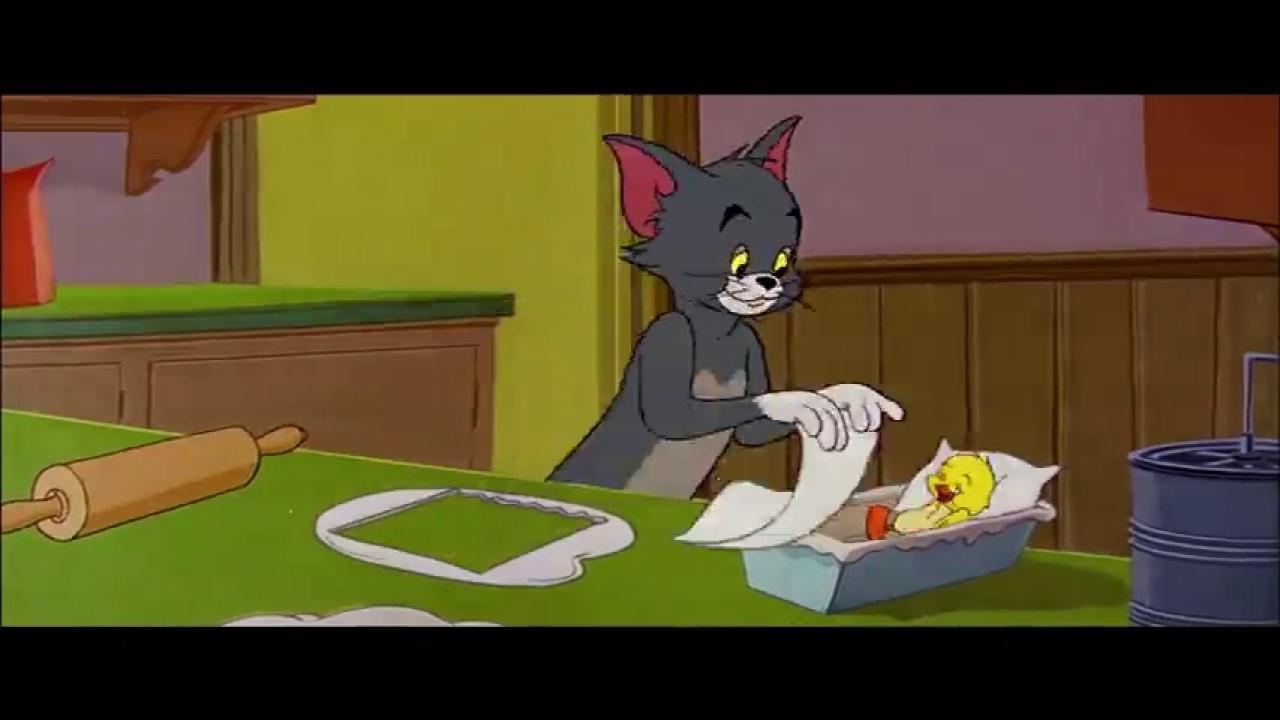Tom: (545, 111, 906, 500)
